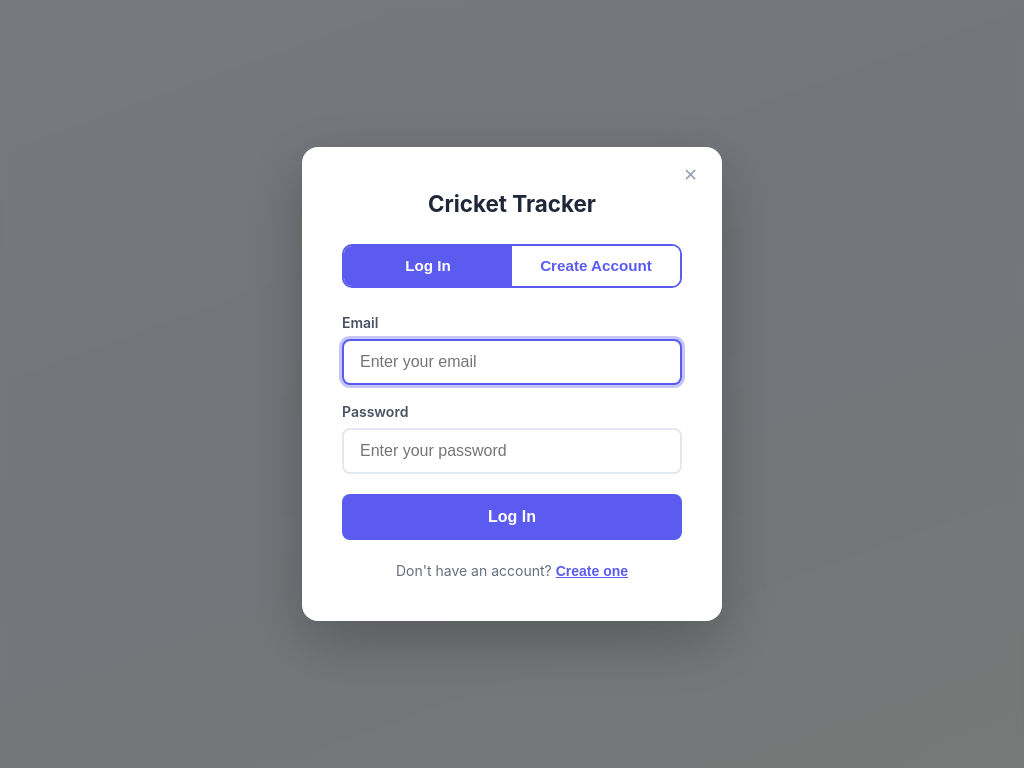
Test: AuthModal rendering › shows the confirm-password field in register mode
Step 1. Click the tab "Create Account" → (596, 266), box [512,246,680,286]
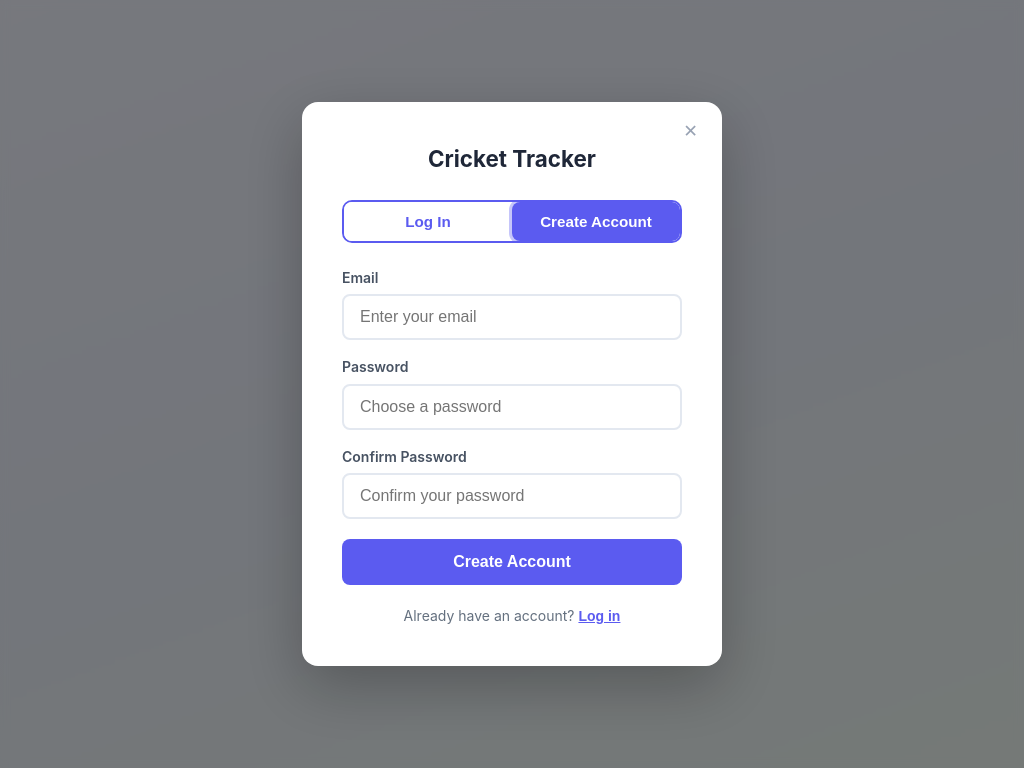
Now the password field labelled "Confirm Password" is shown, box [342,473,682,519]
